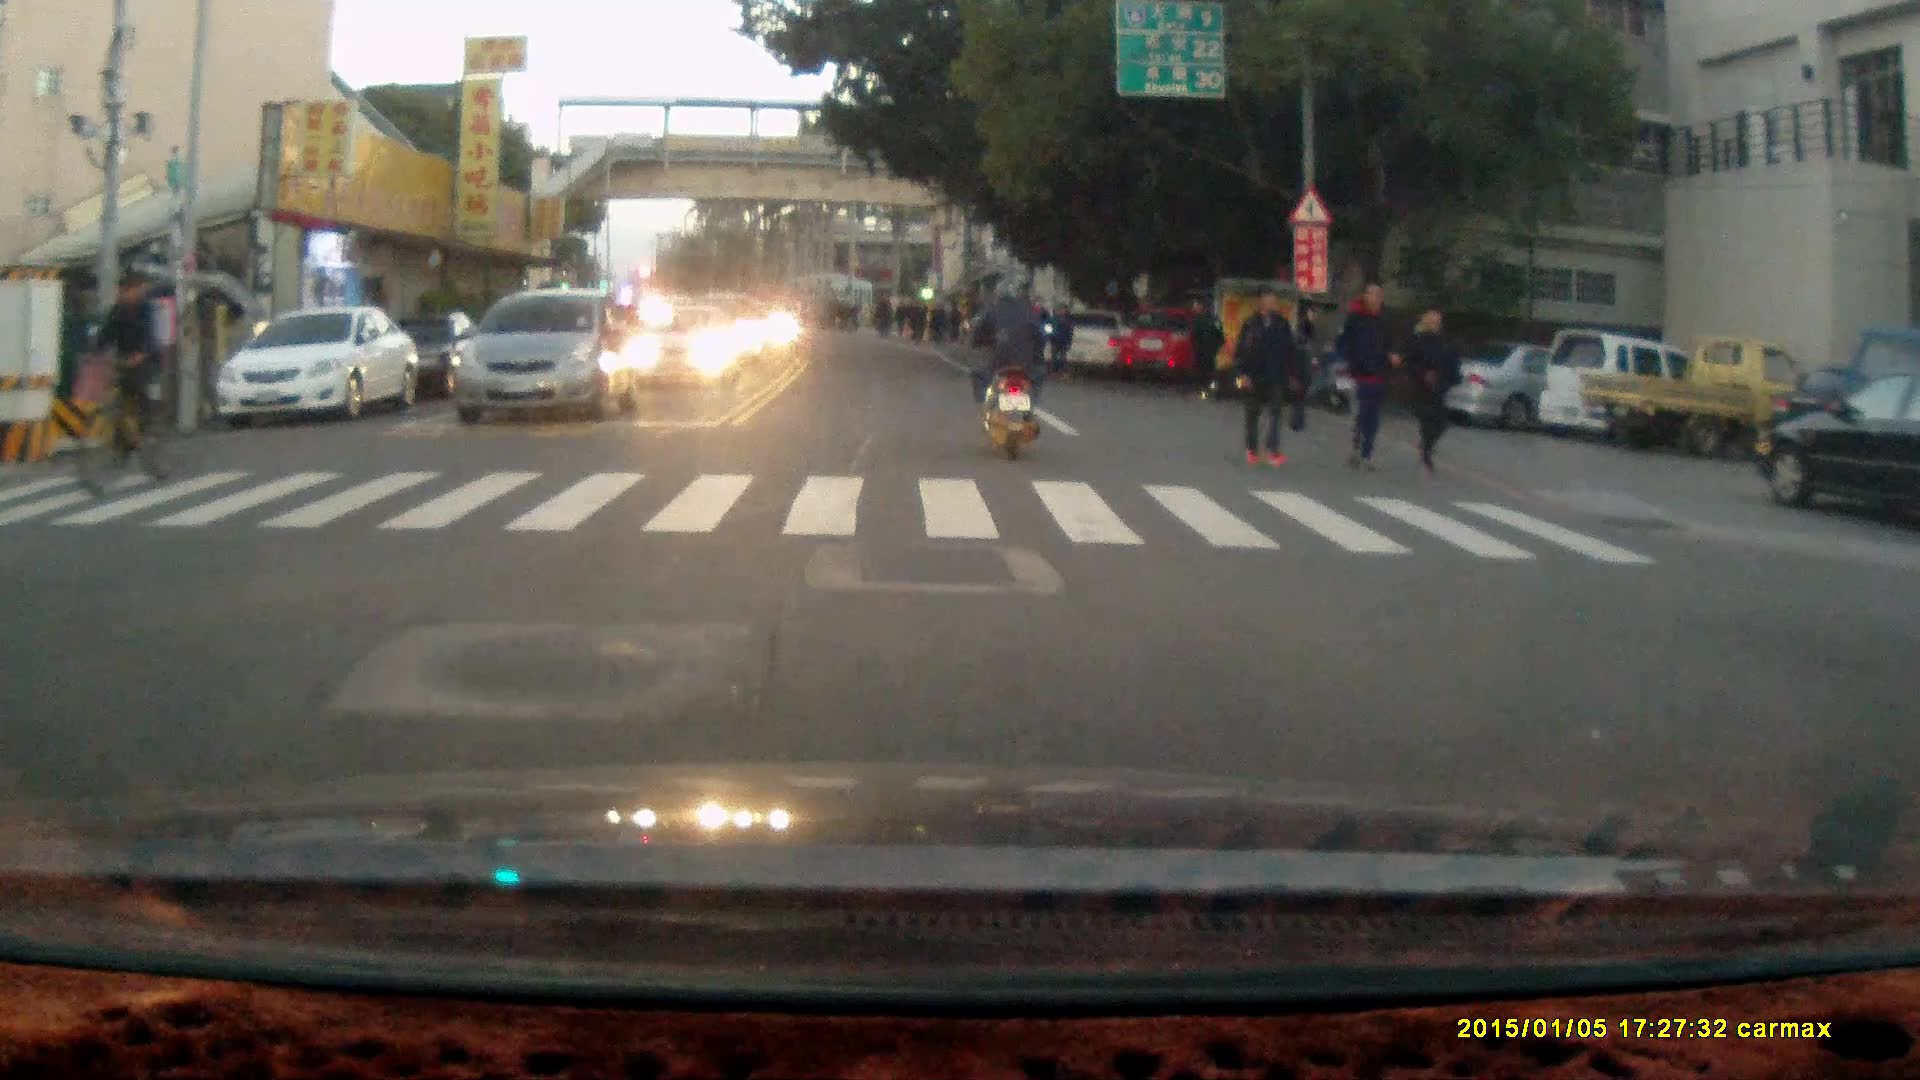pedestrian: (1334, 272, 1402, 478), (1232, 283, 1299, 472), (1404, 306, 1464, 479), (1184, 296, 1223, 404), (1049, 298, 1076, 380)
rider: (69, 268, 183, 503), (961, 277, 1050, 464)
vehicle: (1575, 333, 1818, 456), (446, 286, 638, 422), (1753, 371, 1920, 524), (215, 302, 420, 425), (1423, 336, 1657, 424), (376, 304, 502, 406), (630, 304, 739, 389), (1109, 302, 1215, 382)
